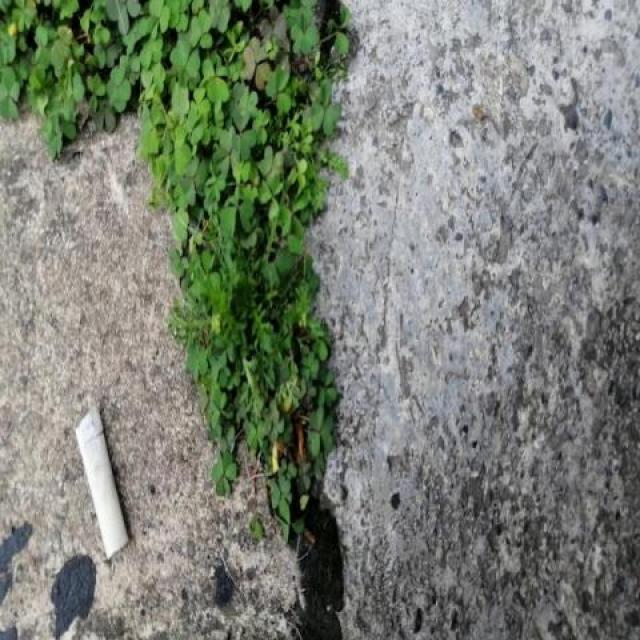non-organic waste: (69, 400, 135, 564)
